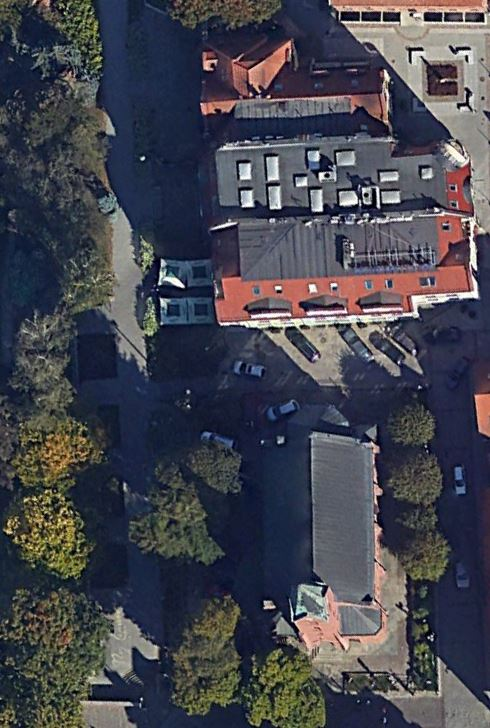block of flats: (198, 31, 486, 332)
church: (258, 397, 388, 666)
